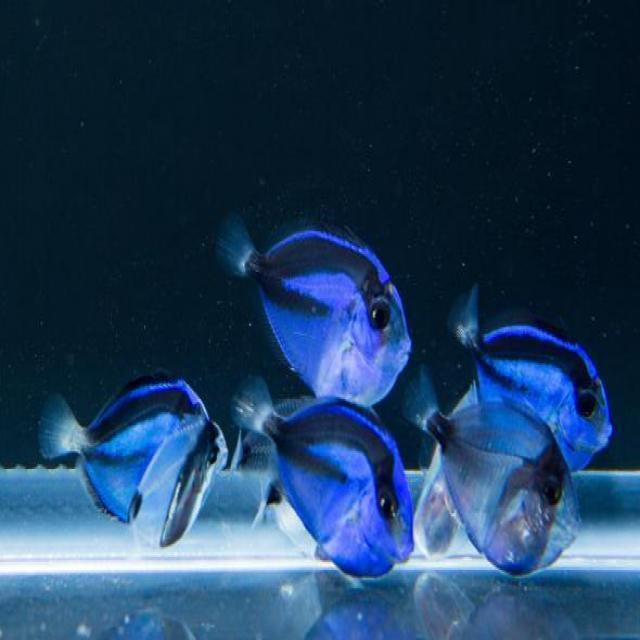TangFish: (205, 202, 415, 408), (231, 375, 417, 581), (400, 363, 578, 571), (32, 374, 224, 550), (448, 279, 613, 476)
